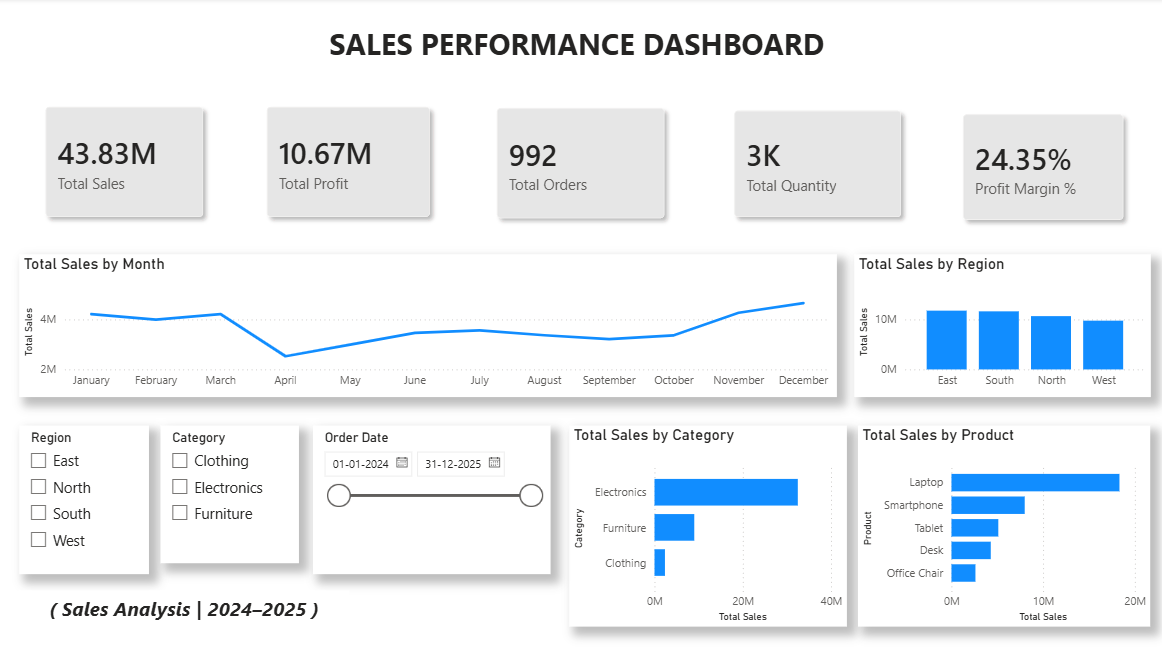

The page's visual inventory and layout, read from the dashboard file:
{"tool":"powerbi","page":{"name":"Page 1","canvas":[1280,720],"ordinal":0},"visuals":[{"type":"cardVisual","fields":{"Data":["Sheet1.Total Sales"]},"box":[23.3,90.6,231.9,179.8],"z":0},{"type":"cardVisual","fields":{"Data":["Sheet1.Total Profit"]},"box":[266.2,90.6,237.4,179.8],"z":1000},{"type":"cardVisual","fields":{"Data":["Sheet1.Total Quantity"]},"box":[779.4,94.7,241.5,175.6],"z":2000},{"type":"cardVisual","fields":{"Data":["Sheet1.Total Orders"]},"box":[518.7,91.9,242.9,179.8],"z":3000},{"type":"cardVisual","fields":{"Data":["Sheet1.Profit Margin %"]},"box":[1030.5,98.8,234.6,174.3],"z":4000},{"type":"lineChart","fields":{"Y":["Sheet1.Total Sales"],"Category":["Sheet1.Order Date.Variation.Date Hierarchy.Month"]},"box":[23.3,281.3,897.4,156.4],"z":5000},{"type":"clusteredColumnChart","fields":{"Category":["Sheet1.Region"],"Y":["Sheet1.Total Sales"]},"box":[940,281.3,325.2,156.4],"z":6000},{"type":"clusteredBarChart","fields":{"Category":["Sheet1.Category"],"Y":["Sheet1.Total Sales"]},"box":[627.1,469.3,304.6,220.9],"z":7000},{"type":"clusteredBarChart","fields":{"Category":["Sheet1.Product"],"Y":["Sheet1.Total Sales"]},"box":[944.1,469.3,321.1,220.9],"z":8000},{"type":"slicer","fields":{"Values":["Sheet1.Region"]},"box":[23.3,469.3,142.7,163.3],"z":9000},{"type":"slicer","fields":{"Values":["Sheet1.Category"]},"box":[178.4,469.3,152.3,150.9],"z":10000},{"type":"slicer","fields":{"Values":["Sheet1.Order Date"]},"box":[345.8,469.3,260.7,163.3],"z":11000},{"type":"textbox","box":[178.4,23.3,913.9,56.3],"z":12000},{"type":"textbox","box":[23.3,650.4,362.3,39.8],"z":12001}]}

Visuals, with their boxes in screenshot pixels (x1, y1, x2, y2), scaled from the page's 1280x720 canvas onto the 1162x654 screenshot:
cardVisual - Sheet1.Total Sales: l=21, t=82, r=232, b=246
cardVisual - Sheet1.Total Profit: l=242, t=82, r=457, b=246
cardVisual - Sheet1.Total Quantity: l=708, t=86, r=927, b=246
cardVisual - Sheet1.Total Orders: l=471, t=83, r=691, b=247
cardVisual - Sheet1.Profit Margin %: l=936, t=90, r=1148, b=248
lineChart - Sheet1.Total Sales x Sheet1.Order Date.Variation.Date Hierarchy.Month: l=21, t=256, r=836, b=398
clusteredColumnChart - Sheet1.Region x Sheet1.Total Sales: l=853, t=256, r=1149, b=398
clusteredBarChart - Sheet1.Category x Sheet1.Total Sales: l=569, t=426, r=846, b=627
clusteredBarChart - Sheet1.Product x Sheet1.Total Sales: l=857, t=426, r=1149, b=627
slicer - Sheet1.Region: l=21, t=426, r=151, b=575
slicer - Sheet1.Category: l=162, t=426, r=300, b=563
slicer - Sheet1.Order Date: l=314, t=426, r=551, b=575
textbox: l=162, t=21, r=992, b=72
textbox: l=21, t=591, r=350, b=627
